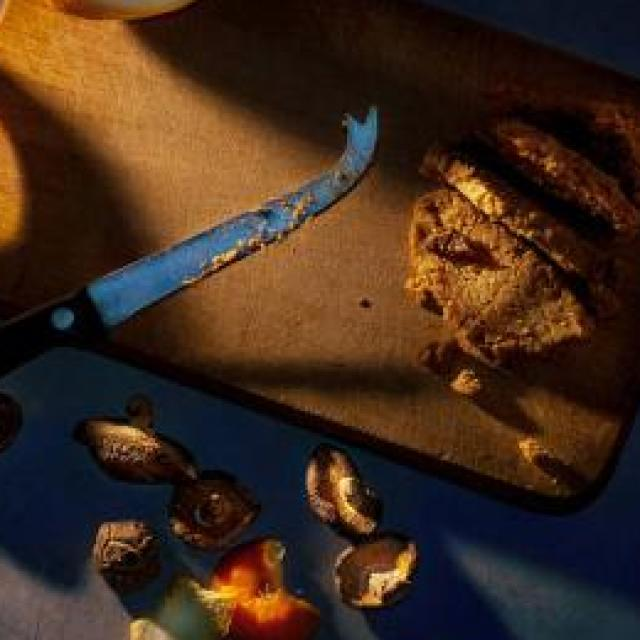knife: (0, 105, 391, 440)
